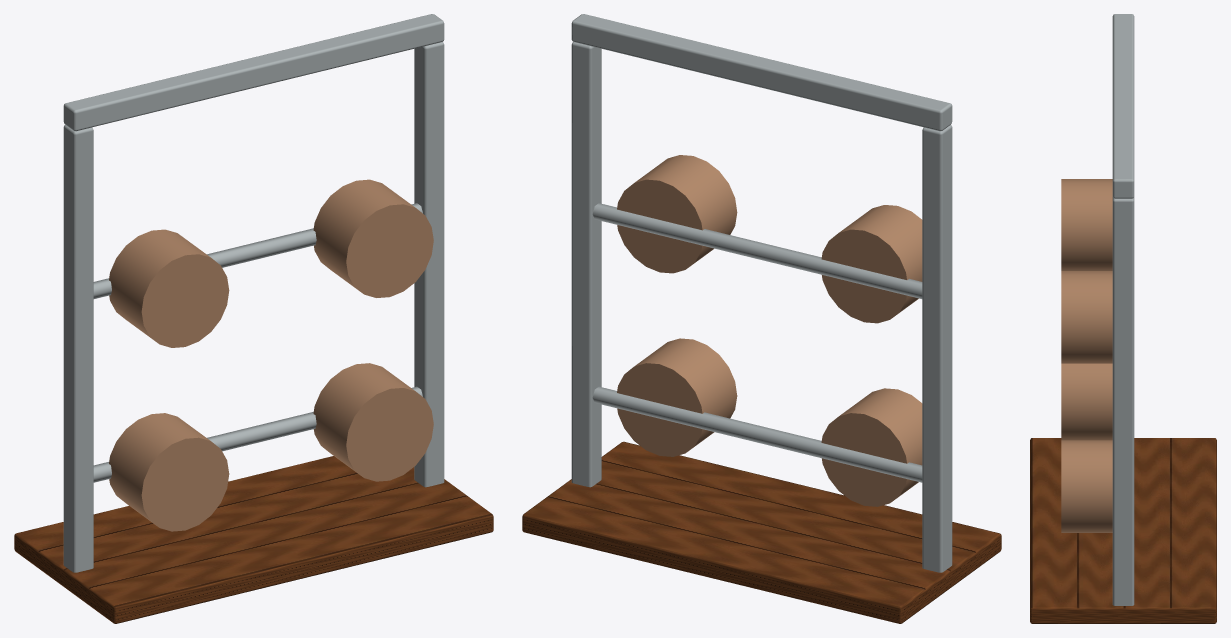
File: salvage-and-repair-workshop-wire-spool-rack-35515106__25488.glb
3 views of the same model, side by side, from view 1: azimuth 30°, elevation 25°; view 2: azimuth 150°, elevation 25°; view 3: azimuth 270°, elevation 25° (orthographic). The views are drawn at different scales.
Parts seen in each view (by area): view 1: wire-spool-rack; view 2: wire-spool-rack; view 3: wire-spool-rack.
Part boxes in pixels (x1=…): wire-spool-rack: x1=14, y1=14, x2=493, y2=623; wire-spool-rack: x1=522, y1=14, x2=1001, y2=623; wire-spool-rack: x1=1030, y1=14, x2=1216, y2=623.
Size of the model in its own units: 1.3 by 1.57 by 0.5999.
Materials: 3 (1 with a texture image).
